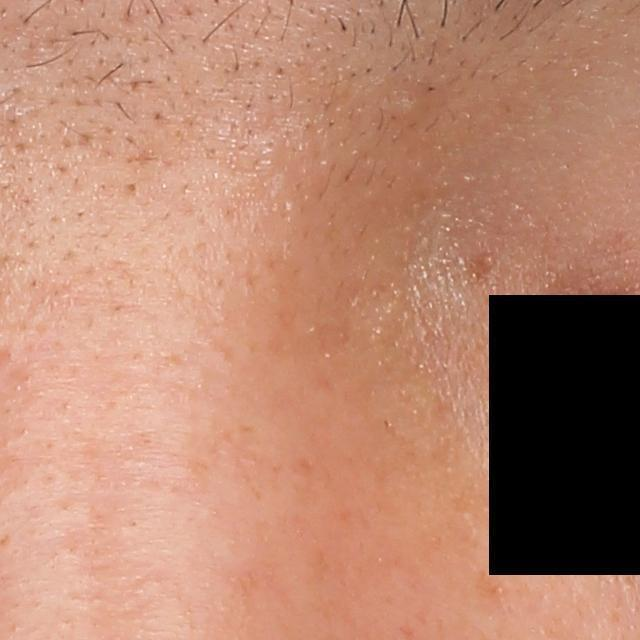comedo: (392, 91, 422, 119)
melasma: (469, 568, 506, 606)
